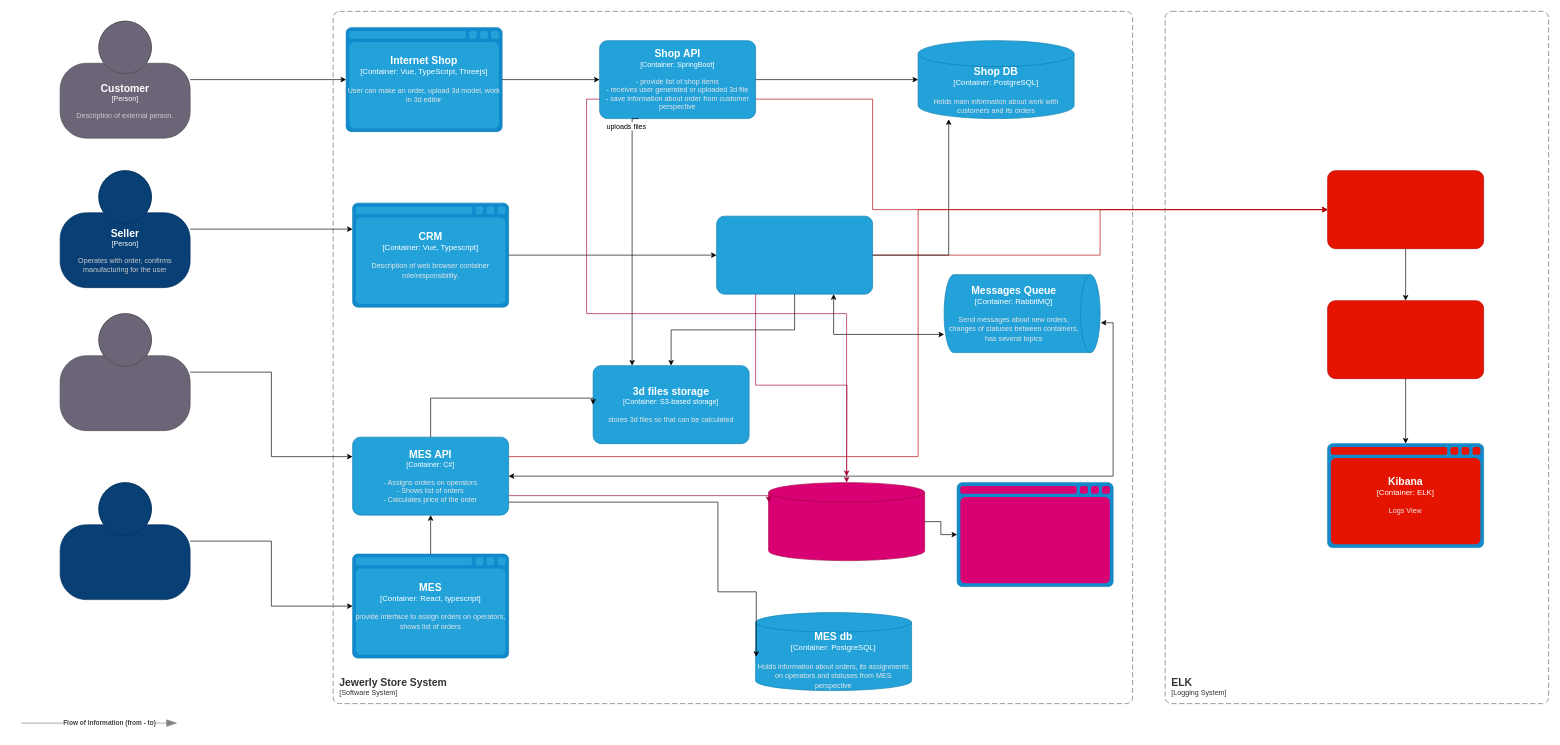
Image size: 1560x745. Some labels were removed from this diagram. Here are the shapes that lost their labels. From the top down, the centre of each, then its label:
(x=1405, y=209): Logstash [Container: ELK] ELK
(x=794, y=254): CRM API [Container: SpringBoot] Description of container role/responsibility.
(x=1405, y=339): Elasticsearch [Container: ELK] ELK
(x=124, y=372): API user [Person] Description of external person.
(x=124, y=541): Operator [Person] Takes order in work, manufactures jewerly
(x=846, y=521): Jaeger [Container: PostgreSQL] Telemetry DB
(x=1034, y=534): Jaeger UI [Container: Jaeger] Request View
